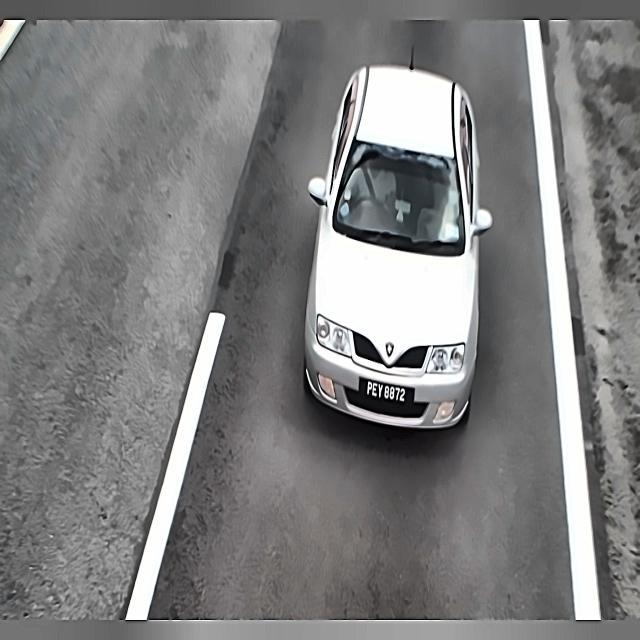car: (359, 377, 416, 412)
